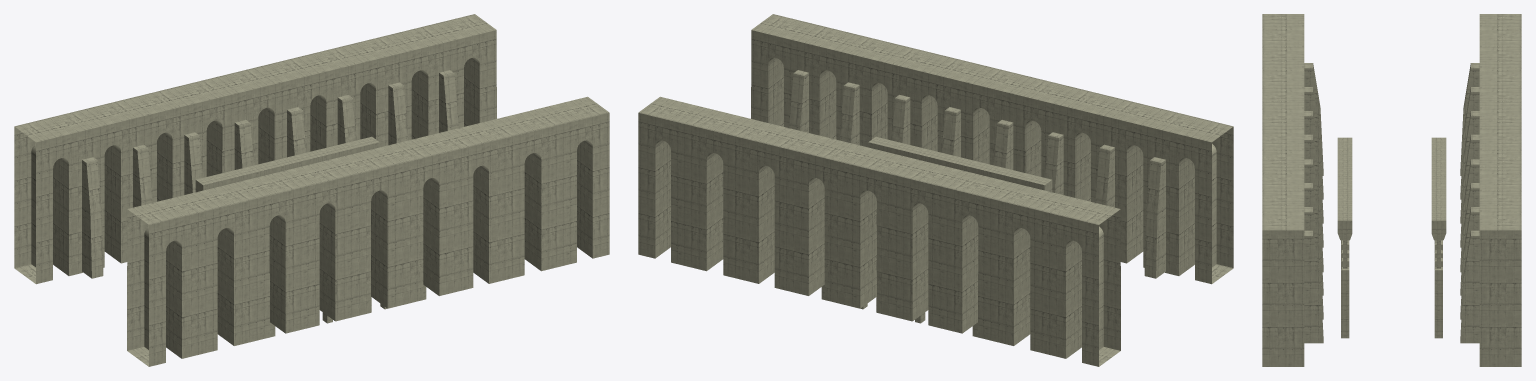
File: SM_NeoLD_11_Block_01.fbx
3 views of the same model, side by side, from view 1: azimuth 30°, elevation 25°; view 2: azimuth 150°, elevation 25°; view 3: azimuth 270°, elevation 25° (orthographic). The views are drawn at different scales.
Visible parts, largest first — view 1: SM_NeoLD_11_Block_01; view 2: SM_NeoLD_11_Block_01; view 3: SM_NeoLD_11_Block_01.
Part boxes in pixels (box(x1,y1,x2,y2)): SM_NeoLD_11_Block_01: box(14, 14, 609, 366); SM_NeoLD_11_Block_01: box(638, 14, 1233, 366); SM_NeoLD_11_Block_01: box(1262, 14, 1521, 366).
Bounding box in the file's own units: 20442 × 7706 × 10362.
